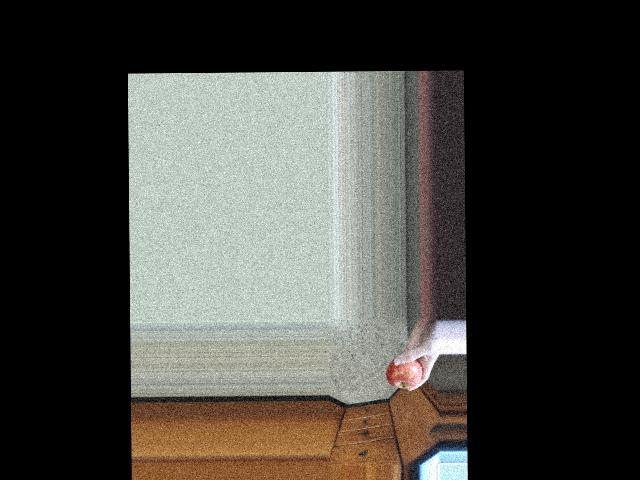apple: (385, 350, 427, 391)
